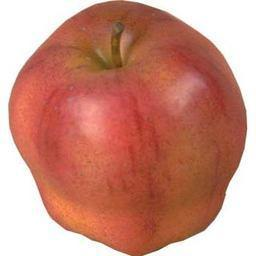apple: (5, 1, 248, 253)
